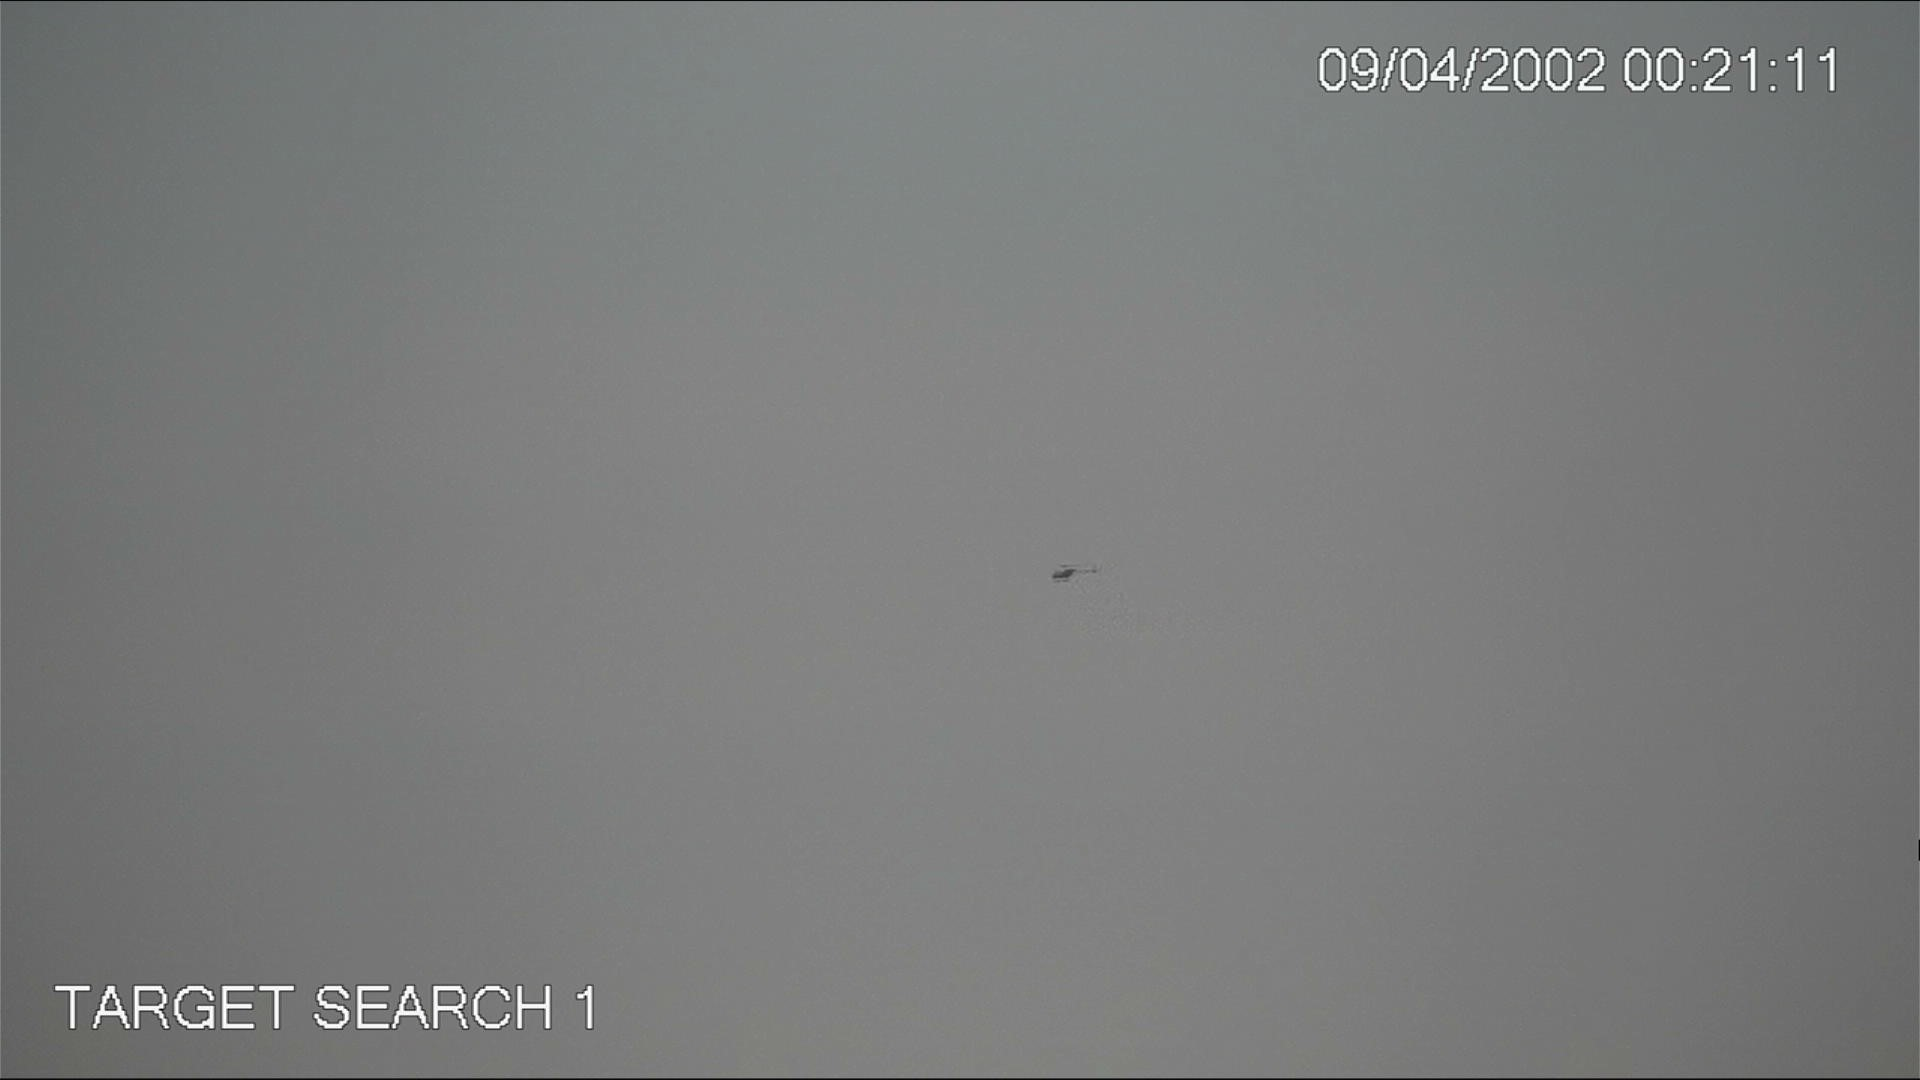SU_30: (1052, 563, 1077, 579)
